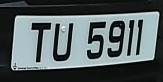1: (136, 17, 147, 58), (127, 18, 137, 59)
5: (86, 20, 106, 62)
9: (108, 20, 126, 59)
T: (27, 19, 53, 67)
U: (50, 20, 76, 65)
